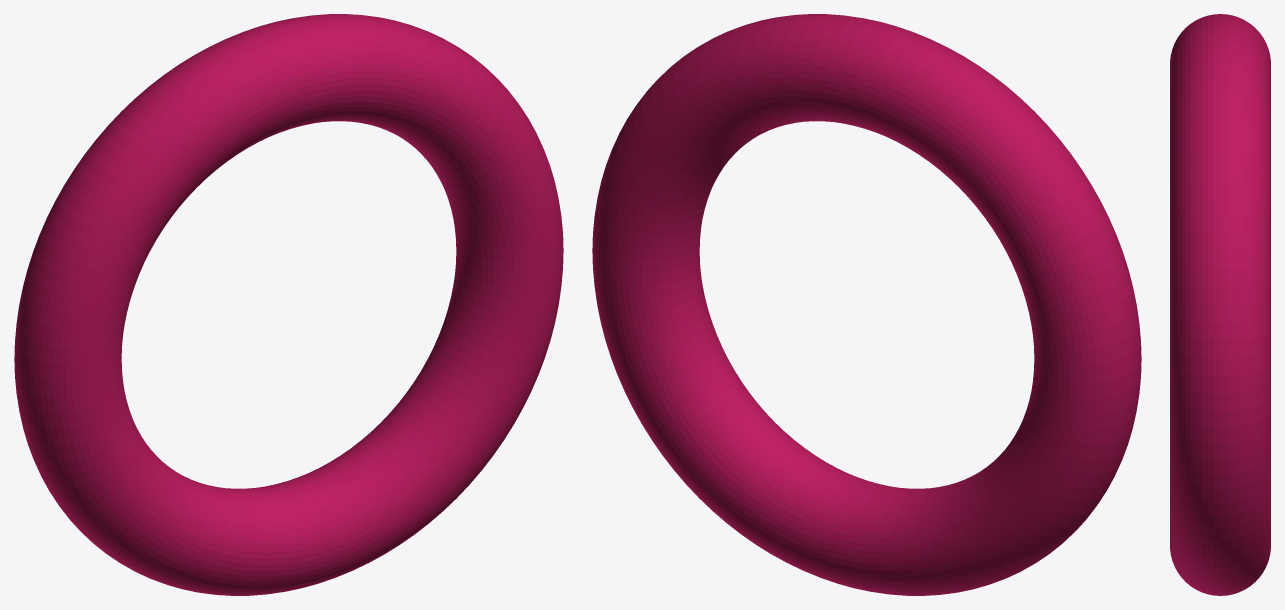
3 renders of one model, left to right at view 1: azimuth 30°, elevation 25°; view 2: azimuth 150°, elevation 25°; view 3: azimuth 270°, elevation 25°, orthographic. The views are drawn at different scales.
Parts seen in each view (by area): view 1: world; view 2: world; view 3: world.
Part boxes in pixels (x1,y1,x2,y2): world: (14,14,563,595); world: (592,14,1141,595); world: (1170,14,1270,595).
Bounding box in the file's own units: 31.47 × 31.47 × 5.46.
